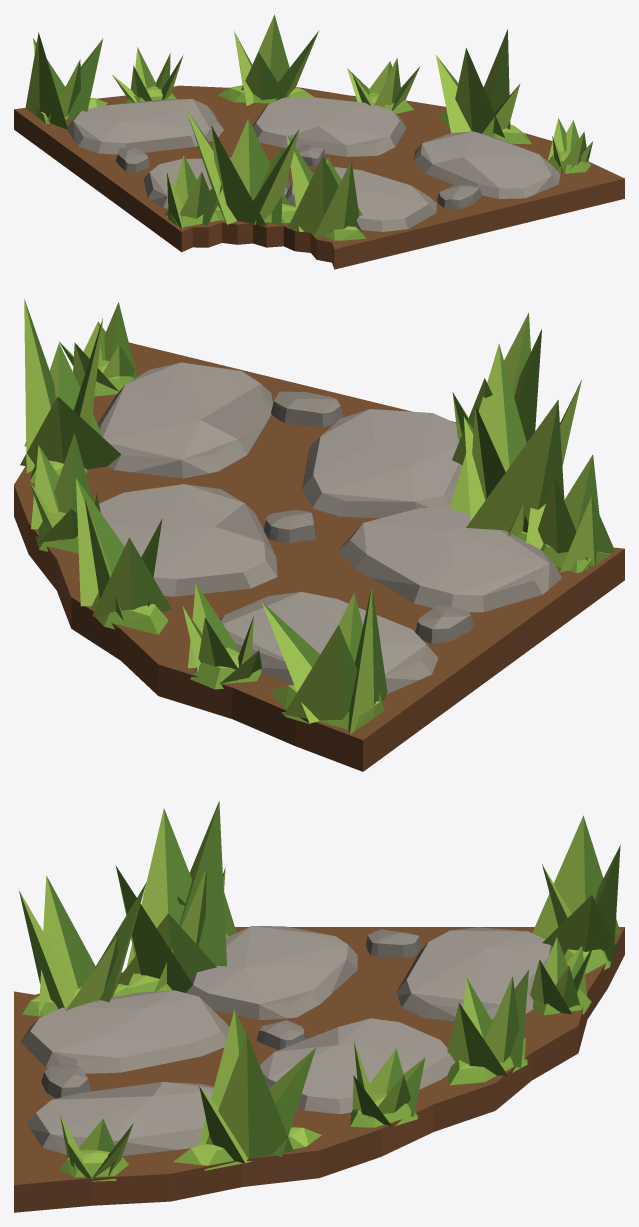
Rendered from FMS_Path_Stone_Curve.fbx.
The picture shows the model from 3 angles, top to bottom: view 1: azimuth 30°, elevation 25°; view 2: azimuth 150°, elevation 25°; view 3: azimuth 270°, elevation 25°; orthographic projection. The views are drawn at different scales.
Visible parts, largest first — view 1: FMS_Path_Stone_Curve; view 2: FMS_Path_Stone_Curve; view 3: FMS_Path_Stone_Curve.
Boxes of the visible parts, x1,y1,x2,y2 form: FMS_Path_Stone_Curve: (14, 14, 624, 269); FMS_Path_Stone_Curve: (14, 299, 624, 771); FMS_Path_Stone_Curve: (14, 801, 624, 1212).
Size of the model in its own units: 1.6 by 0.4908 by 1.6.
